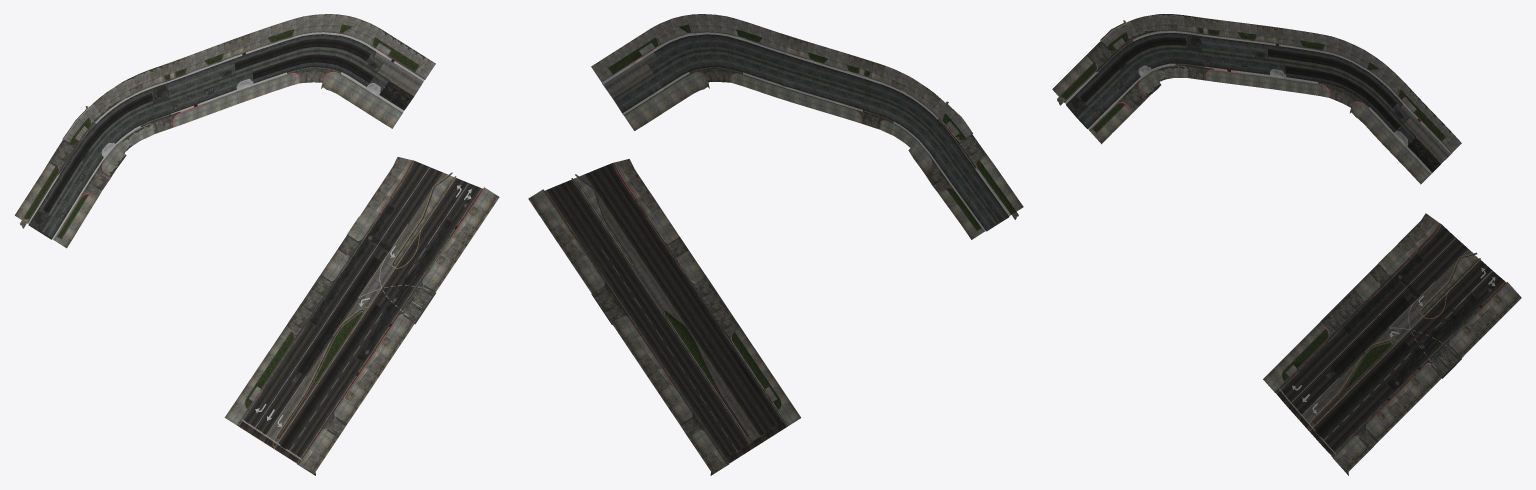
The model's file is road.fbx.
3 renders of one model, left to right at view 1: azimuth 30°, elevation 25°; view 2: azimuth 150°, elevation 25°; view 3: azimuth 330°, elevation 25°, orthographic. The views are drawn at different scales.
Parts seen in each view (by area): view 1: sc1_rd_r2_10; view 2: sc1_rd_r2_10; view 3: sc1_rd_r2_10.
Part boxes in pixels (left/top/right/bottom): sc1_rd_r2_10: left=15, top=14, right=499, bottom=475; sc1_rd_r2_10: left=528, top=14, right=1023, bottom=475; sc1_rd_r2_10: left=1052, top=14, right=1521, bottom=475.
Bounding box in the file's own units: 17353 × 15658 × 475.
